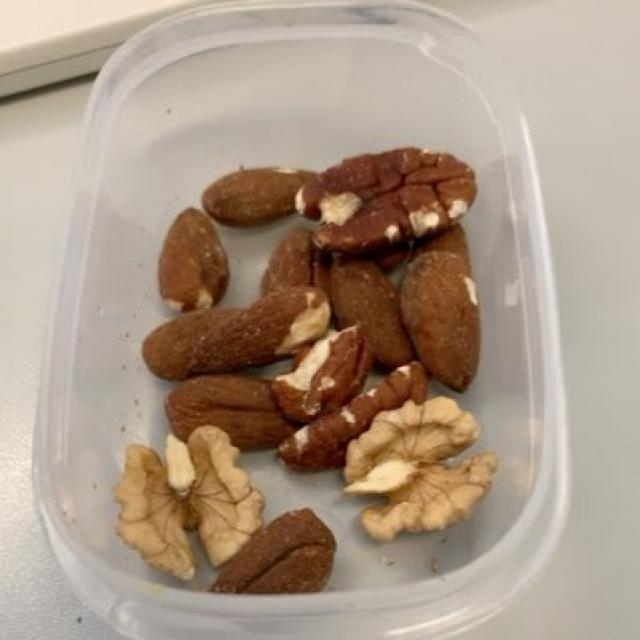nuts: (116, 152, 481, 606)
